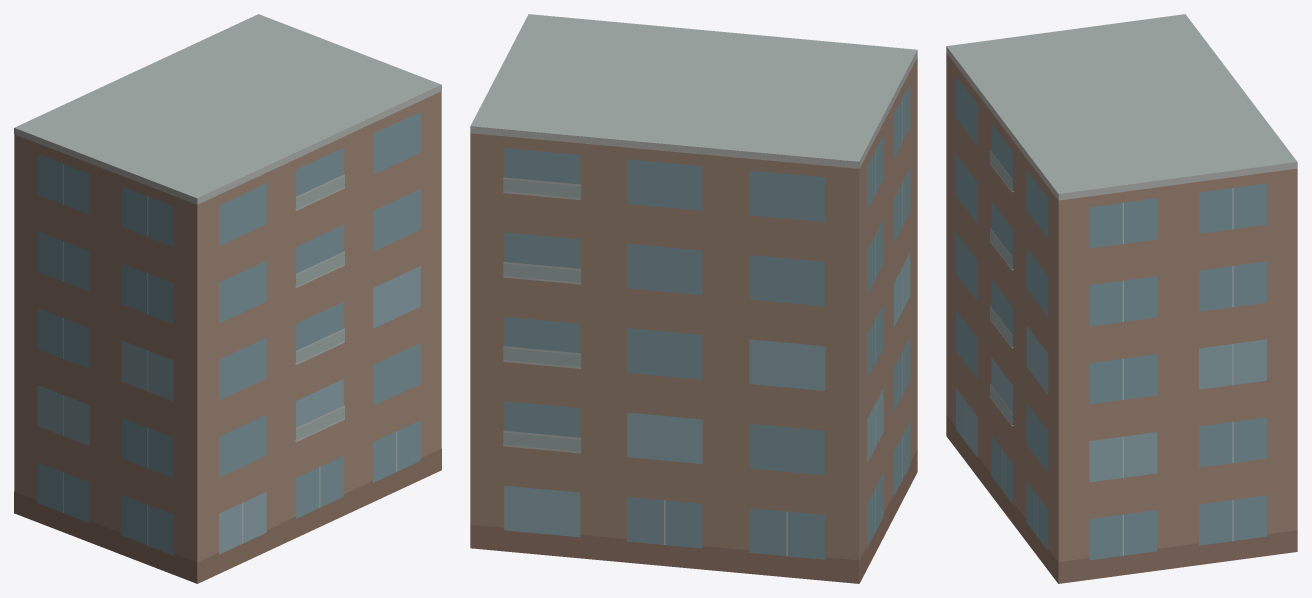
The model's file is survey-upis-32912605.glb.
3 renders of one model, left to right at view 1: azimuth 30°, elevation 25°; view 2: azimuth 150°, elevation 25°; view 3: azimuth 270°, elevation 25°, orthographic. The views are drawn at different scales.
Parts seen in each view (by area): view 1: survey-upis-32912605.tmp; view 2: survey-upis-32912605.tmp; view 3: survey-upis-32912605.tmp.
Boxes of the visible parts, left/top/right/bottom form: survey-upis-32912605.tmp: left=14, top=14, right=441, bottom=583; survey-upis-32912605.tmp: left=470, top=14, right=917, bottom=583; survey-upis-32912605.tmp: left=946, top=14, right=1297, bottom=583.
Size of the model in its own units: 14.48 by 14.6 by 11.94.
